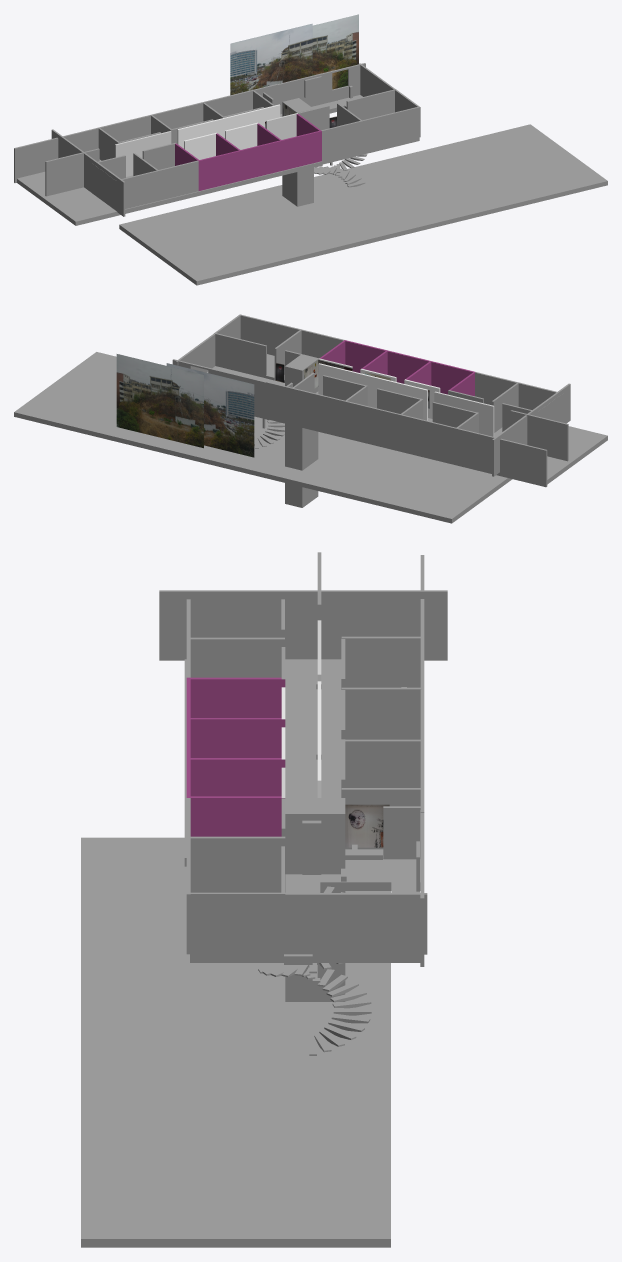
The model's file is 4to piso 2.fbx.
3 renders of one model, top to bottom at view 1: azimuth 30°, elevation 25°; view 2: azimuth 150°, elevation 25°; view 3: azimuth 270°, elevation 25°, orthographic. The views are drawn at different scales.
Visible parts, largest first — view 1: todo_piso; view 2: todo_piso; view 3: todo_piso.
Part boxes in pixels (x1=…): todo_piso: x1=14, y1=14, x2=607, y2=285; todo_piso: x1=14, y1=314, x2=607, y2=523; todo_piso: x1=81, y1=552, x2=447, y2=1247.
Bounding box in the file's own units: 6178 × 1774 × 2423.
Materials: 12 (8 with a texture image).
